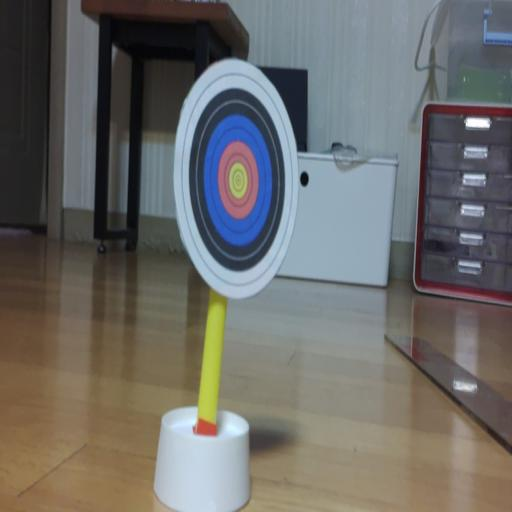target: (174, 59, 300, 298)
